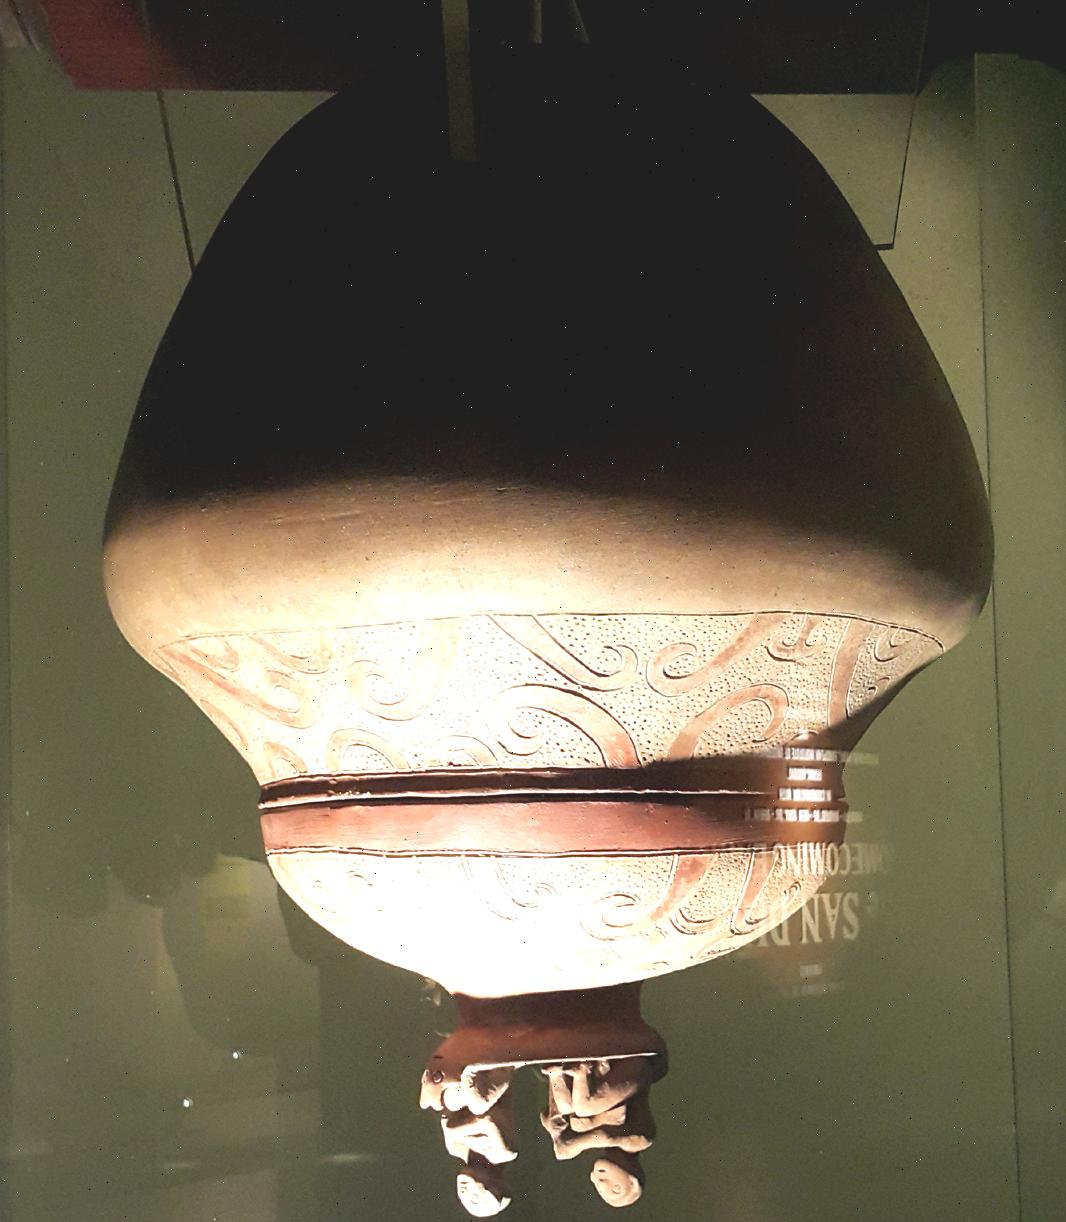manunggul_jar: (82, 1, 1009, 1222)
